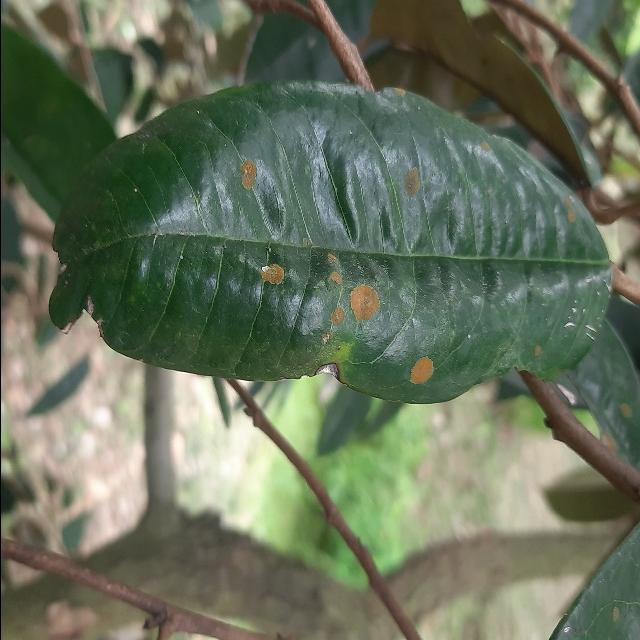Algal Leaf Spot: (45, 71, 627, 405)
